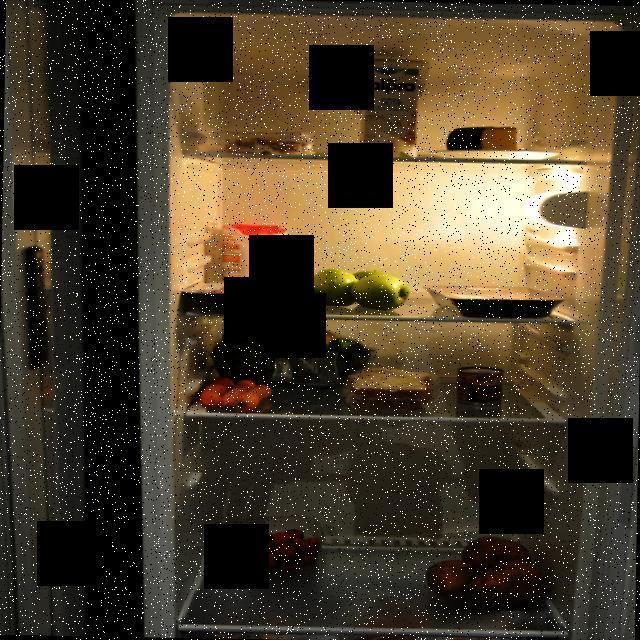apple: (304, 263, 414, 314)
bread: (344, 364, 438, 414)
carrot: (191, 374, 278, 414)
cheese: (443, 124, 522, 154)
corn: (456, 364, 504, 407)
ground_beef: (180, 276, 306, 314)
milk: (356, 56, 423, 160)
shrimp: (220, 133, 314, 156)
spinach: (210, 322, 376, 392)
strawberries: (245, 524, 326, 576)
sugar: (218, 222, 292, 302)
sweet_potato: (424, 534, 548, 610)
